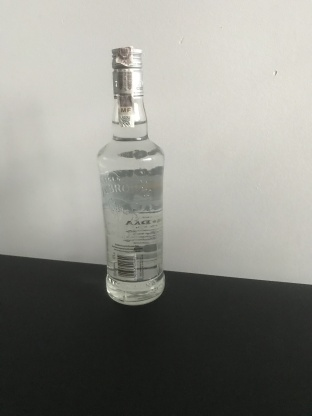nakretka: (110, 45, 145, 99)
